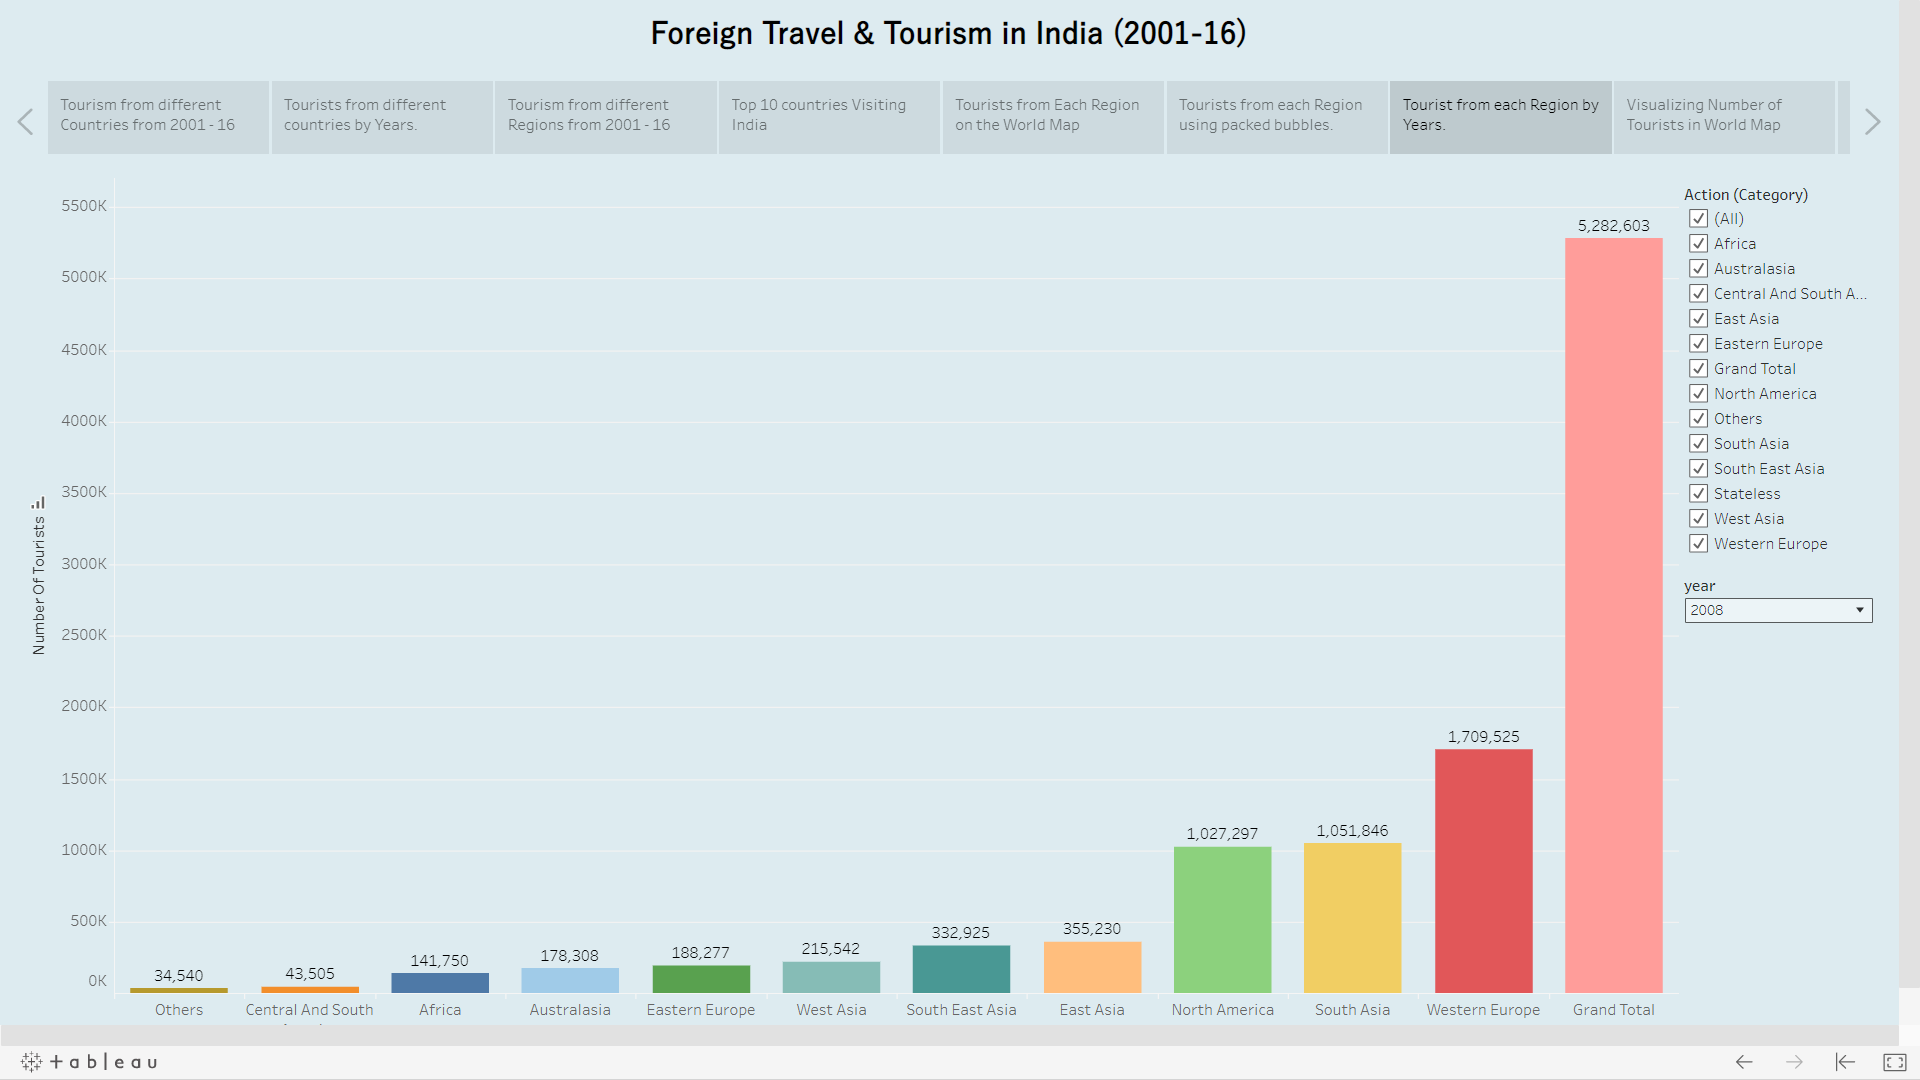

The page's visual inventory and layout, read from the dashboard file:
{"tool":"tableau","page":{"name":"By Region","canvas":[1520,700],"ordinal":1},"visuals":[{"type":"worksheet","box":[0,0,1520,700]},{"type":"worksheet","param":"[Parameters].[Parameter 1]","box":[1261.6,7,243.2,48.1]},{"type":"worksheet","param":"horz","box":[8,8,1504,684]},{"type":"worksheet","box":[8,8,1504,684]},{"type":"worksheet","title":"Tourists from each Region","mark":"Automatic","rows":["Calculation_721420399666532353"],"cols":["F1"],"box":[8,8,1504,342]},{"type":"worksheet","title":"Most Visitors by Regions","mark":"Circle","box":[8,350,1504,342]},{"type":"worksheet","title":"Most Visitors by Regions","mark":"Circle","param":"[federated.0m8pxyp08y5cd51do6m1t1b7czdd].[none:F1:nk]","box":[1247.9,392,270.6,264.2]}]}

Visuals, with their boxes on the page's 1520x700 design canvas (x1, y1, x2, y2). These are canvas units, not pixel positions in the 1920x1080 screenshot, which may show the page scaled, cropped or inside an application window:
worksheet: region(0, 0, 1520, 700)
worksheet: region(1262, 7, 1505, 55)
worksheet: region(8, 8, 1512, 692)
worksheet: region(8, 8, 1512, 692)
"Tourists from each Region" worksheet: region(8, 8, 1512, 350)
"Most Visitors by Regions" worksheet (Circle marks): region(8, 350, 1512, 692)
"Most Visitors by Regions" worksheet (Circle marks): region(1248, 392, 1518, 656)
